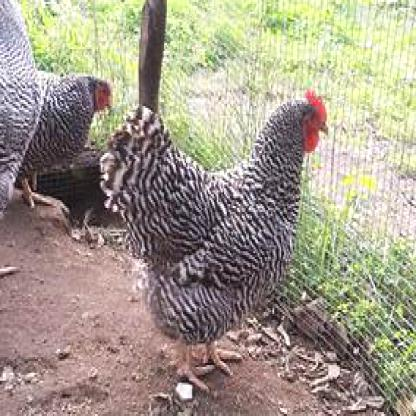chicken: (111, 90, 330, 396), (16, 74, 113, 214)
